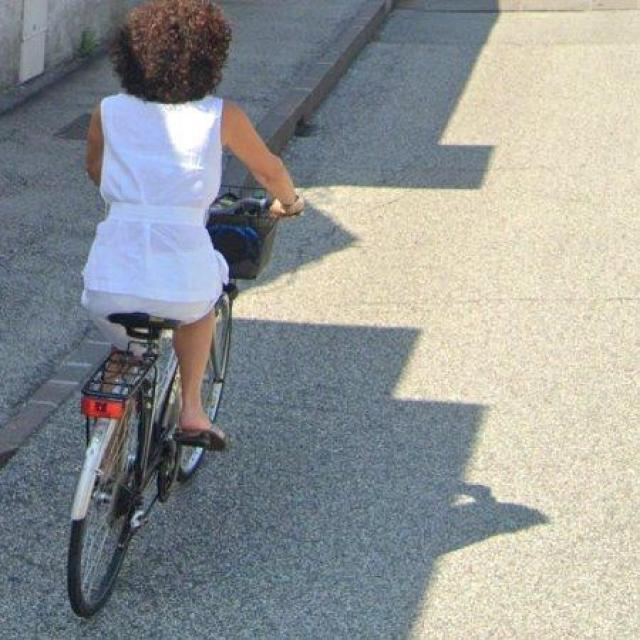bicycle: (68, 316, 206, 620), (206, 294, 235, 420)
